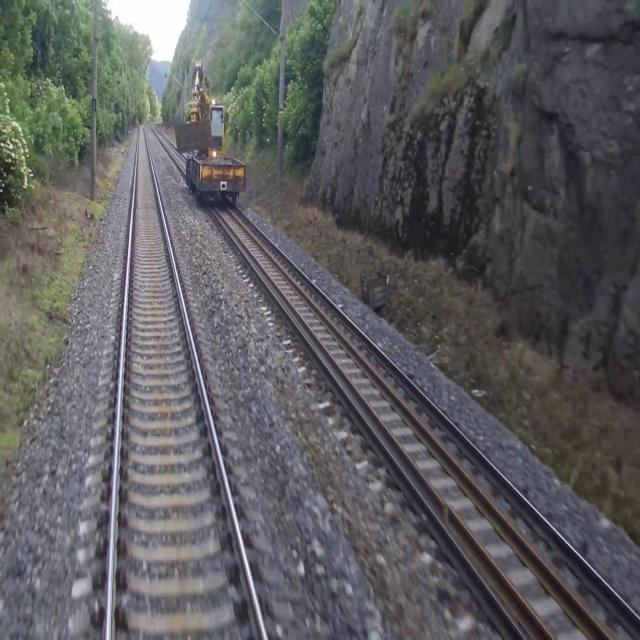danger: (173, 55, 250, 210)
rail: (226, 201, 640, 640), (208, 202, 557, 640), (145, 135, 268, 640), (103, 126, 138, 640), (152, 129, 186, 176), (156, 127, 187, 162)
